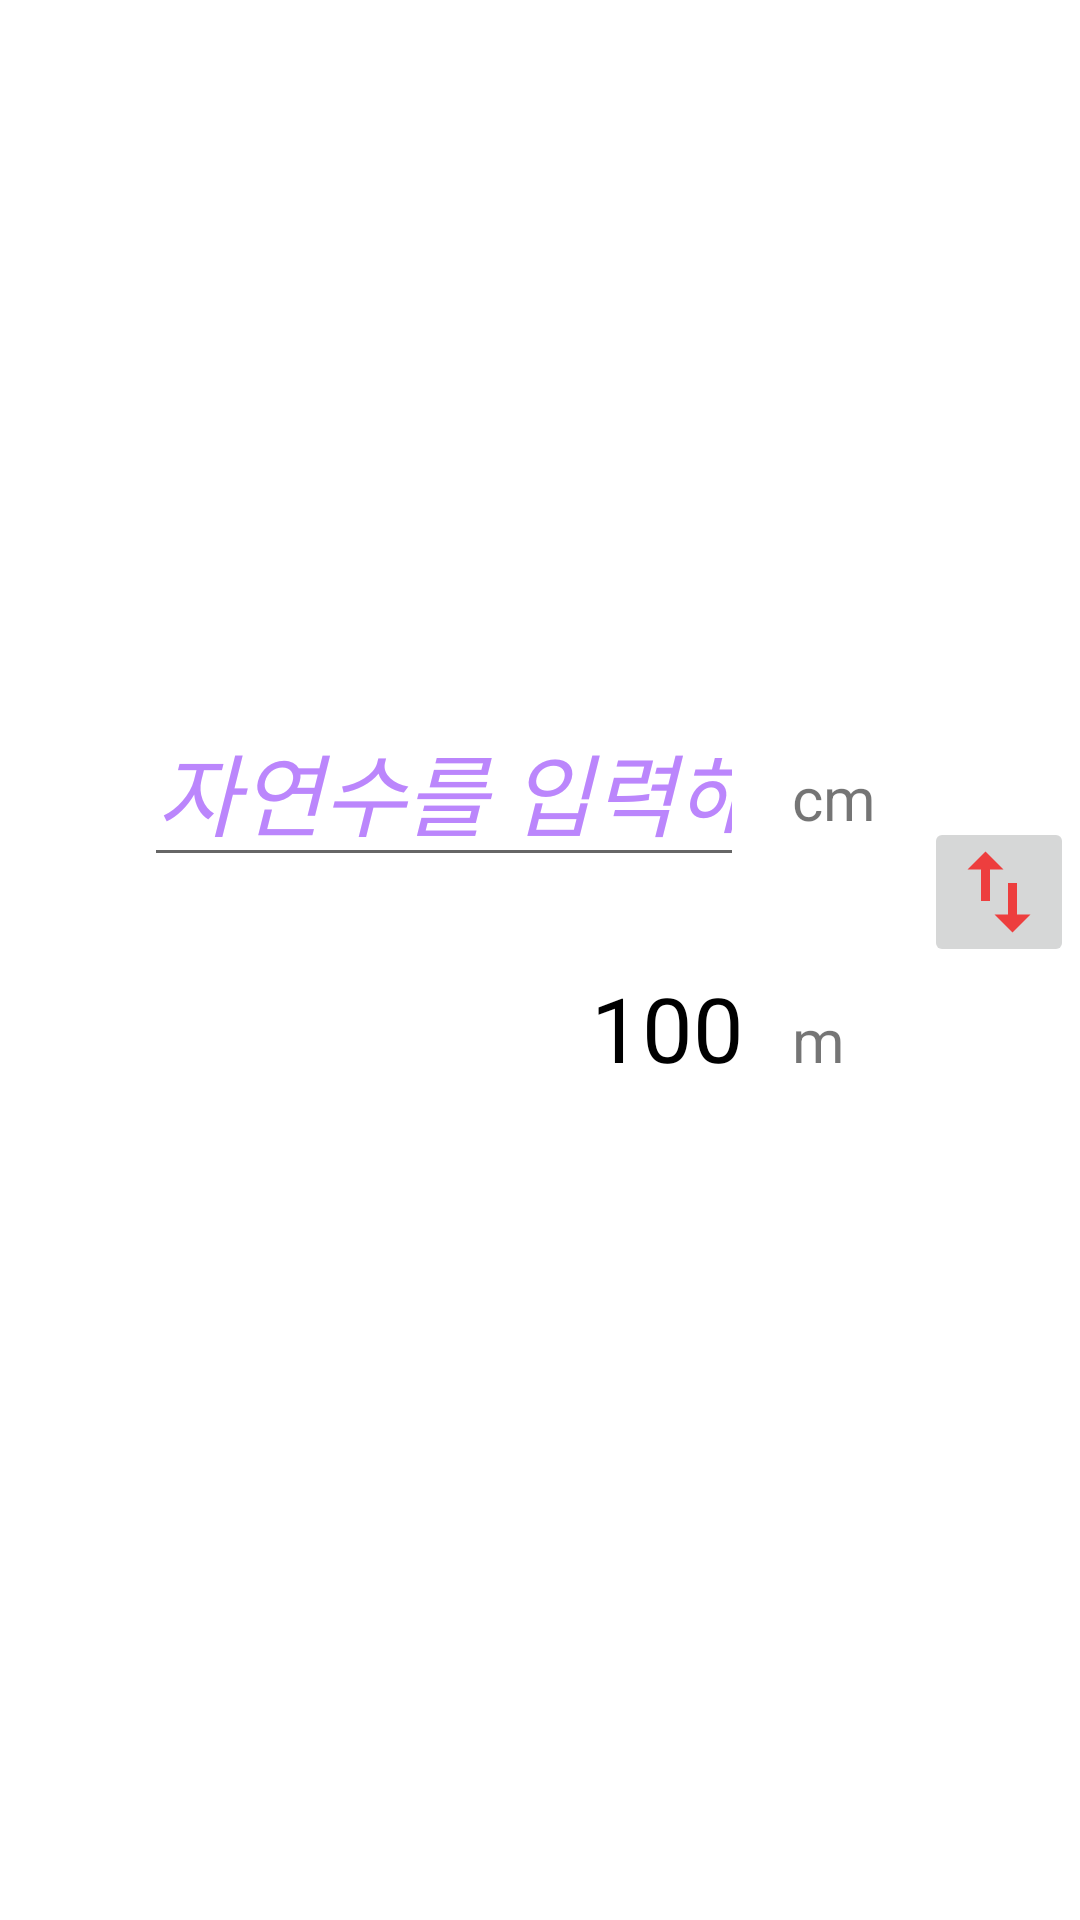

Screen size 1080 × 1920. Icon name, then its box in pixels as (x1, y1, x2, y2):
swap vert: (936, 835, 1062, 949)
